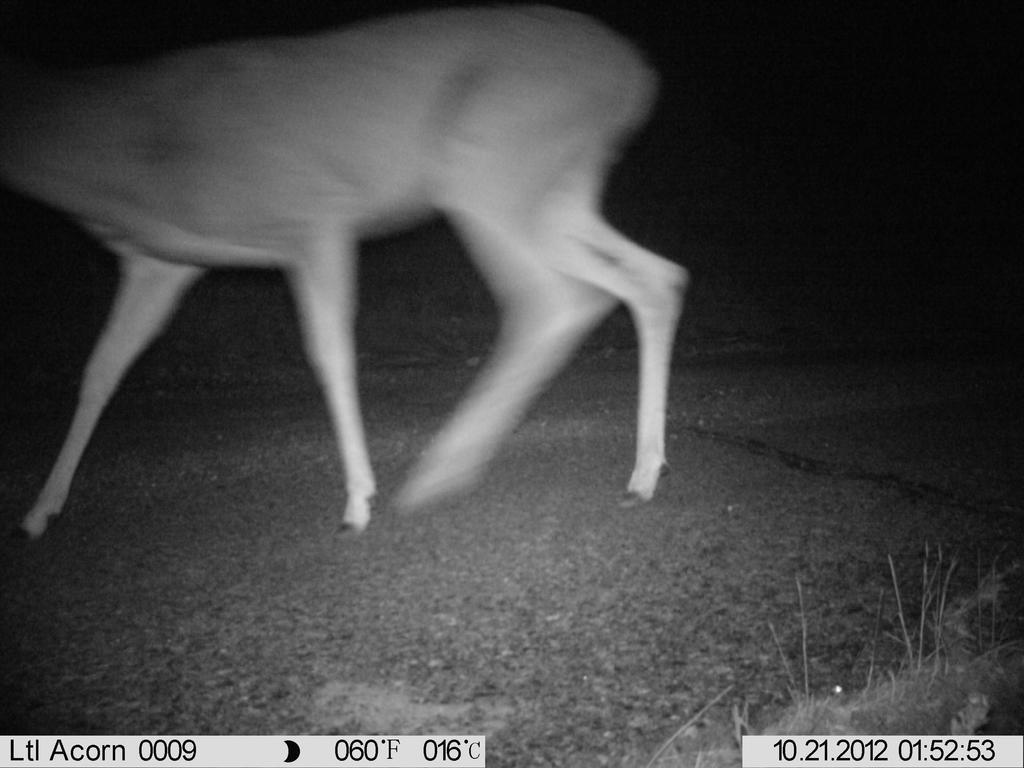deer: (4, 1, 702, 549)
